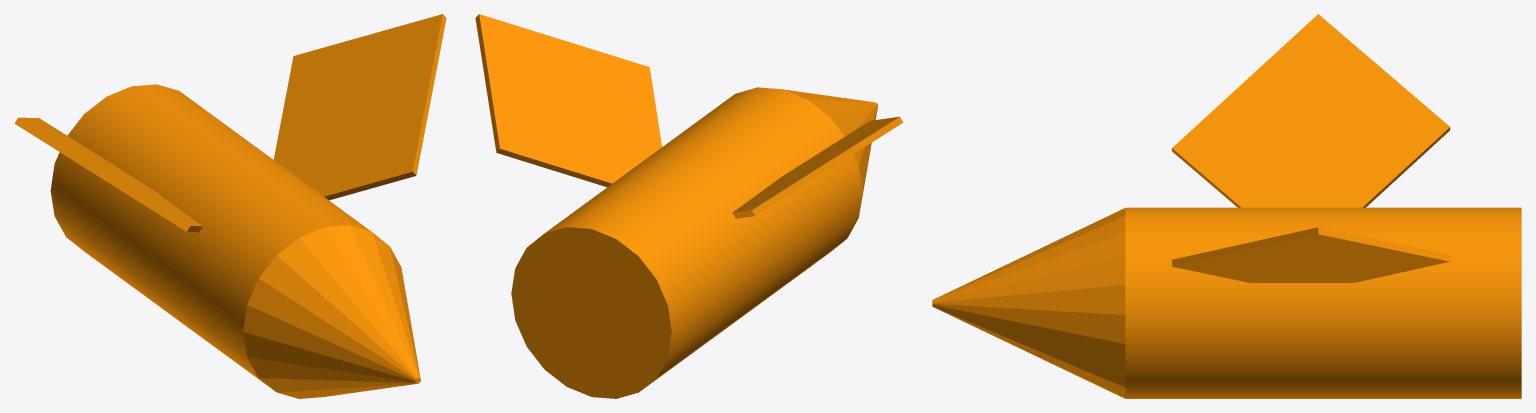
File: Bee.fbx
3 renders of one model, left to right at view 1: azimuth 30°, elevation 25°; view 2: azimuth 150°, elevation 25°; view 3: azimuth 270°, elevation 25°, orthographic. The views are drawn at different scales.
Visible parts, largest first — view 1: pCylinder4; view 2: pCylinder4; view 3: pCylinder4.
Boxes of the visible parts, box(x1,y1,x2,y2) form: pCylinder4: box(14, 14, 446, 398); pCylinder4: box(475, 14, 903, 398); pCylinder4: box(932, 14, 1521, 398).
Size of the model in its own units: 1.35 by 0.7855 by 1.55.
